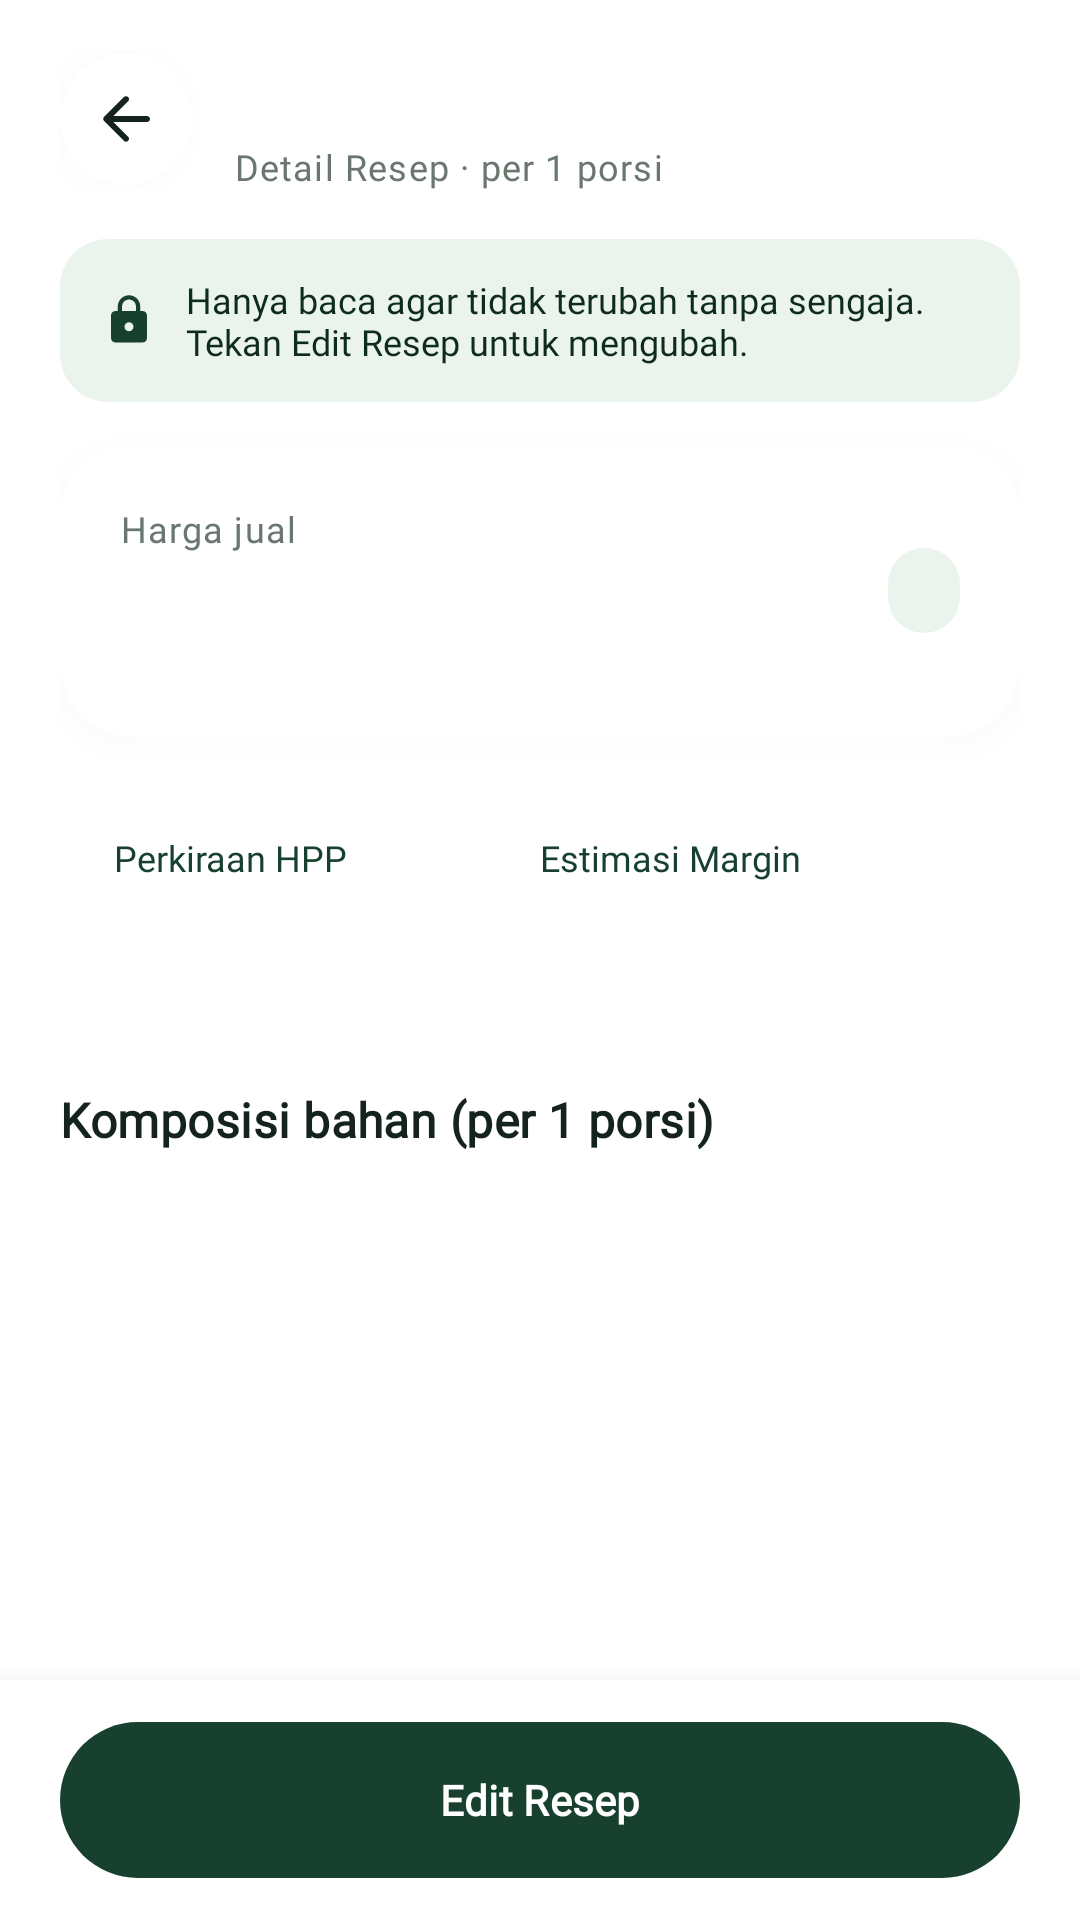

Point at icon controls on the screen. Image size 1080×1920, points as point (x, y).
lock: point (129, 319)
